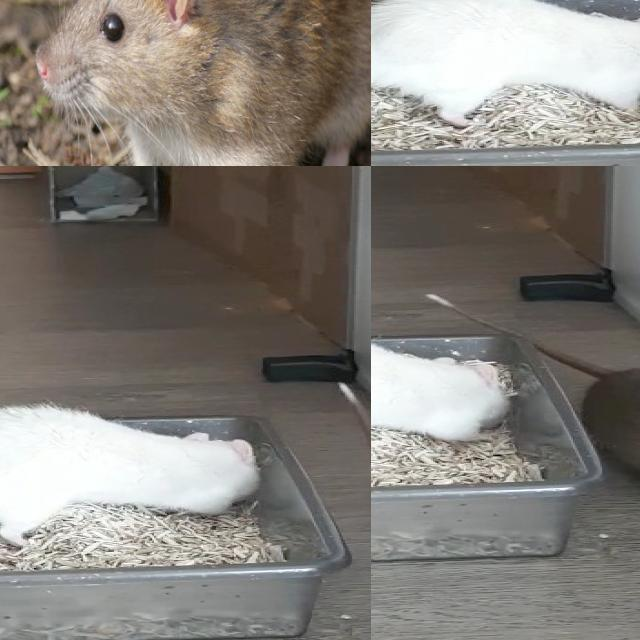rat: (25, 0, 371, 166), (0, 405, 270, 542), (371, 0, 640, 123), (371, 326, 518, 470), (583, 369, 640, 525)
